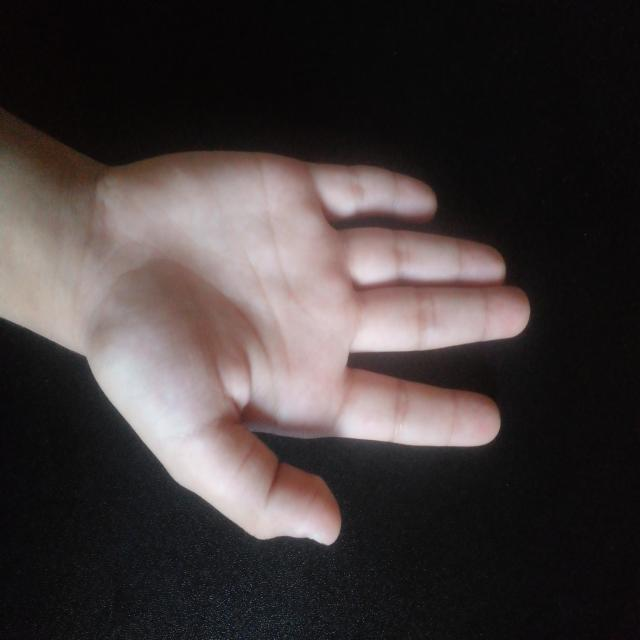Open Hand: (84, 125, 534, 549)
